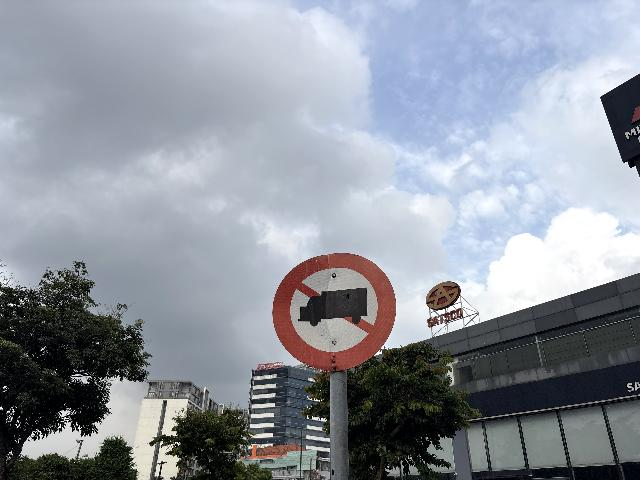cam-xe-tai: (272, 252, 396, 371)
